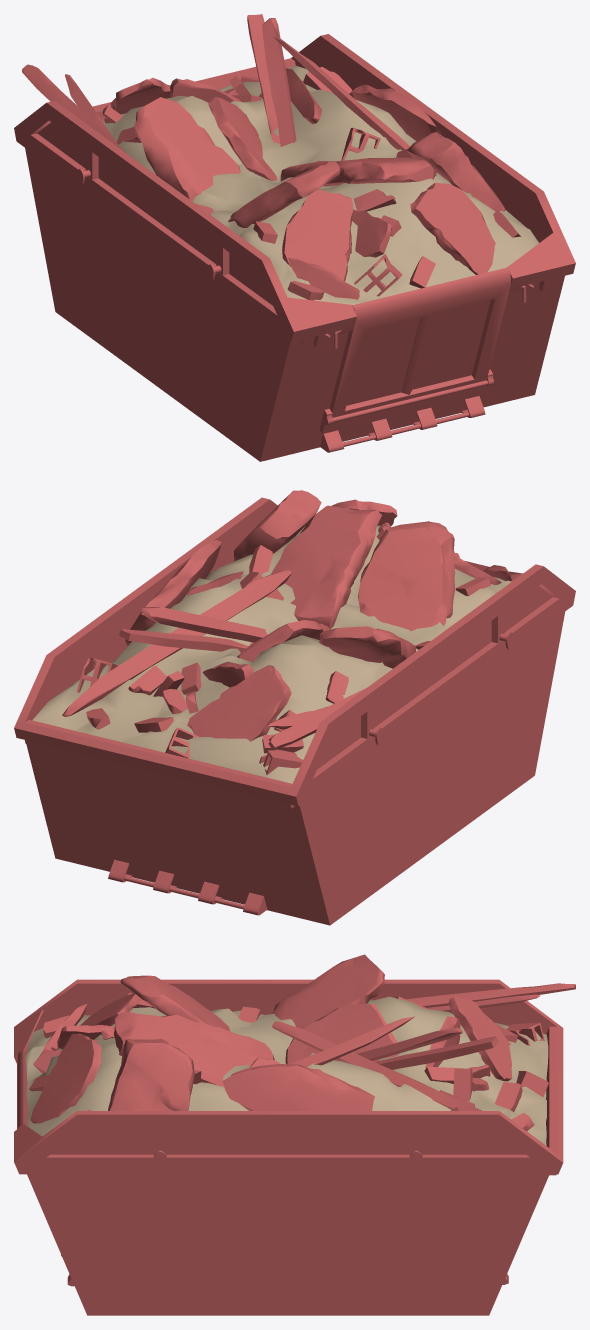
Rendered from SM_Dumpster_01a.FBX.
3 renders of one model, top to bottom at view 1: azimuth 30°, elevation 25°; view 2: azimuth 150°, elevation 25°; view 3: azimuth 270°, elevation 25°, orthographic.
Visible parts, largest first — view 1: SM_Dumpster_01a_Dumpster_LOD0; view 2: SM_Dumpster_01a_Dumpster_LOD0; view 3: SM_Dumpster_01a_Dumpster_LOD0.
Part boxes in pixels (x1,y1,x2,y2): SM_Dumpster_01a_Dumpster_LOD0: (14,14,575,461); SM_Dumpster_01a_Dumpster_LOD0: (14,490,575,925); SM_Dumpster_01a_Dumpster_LOD0: (14,954,575,1315).
Size of what is drawn, in the model's own units: 228 by 188 by 377.
